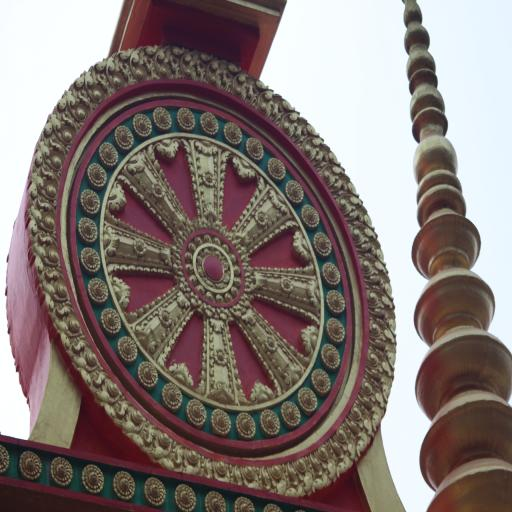hoa: (48, 452, 74, 488), (80, 458, 106, 494), (140, 474, 167, 506), (20, 446, 43, 482), (88, 276, 113, 309), (161, 379, 183, 415), (137, 358, 159, 394), (80, 241, 102, 276), (210, 407, 234, 439), (99, 305, 122, 338), (112, 467, 134, 501), (187, 395, 208, 430), (236, 410, 258, 443), (280, 400, 304, 430), (118, 334, 138, 368), (173, 481, 194, 512), (79, 185, 101, 214), (78, 212, 97, 243), (327, 286, 346, 316), (176, 104, 196, 132), (326, 316, 345, 345), (298, 385, 317, 414), (314, 226, 331, 258), (200, 111, 220, 138), (246, 134, 264, 164), (302, 202, 320, 232), (312, 368, 332, 395), (262, 408, 280, 438), (115, 122, 133, 152), (134, 112, 152, 142), (86, 163, 106, 189), (153, 104, 171, 132), (224, 118, 242, 146), (286, 176, 304, 204), (323, 259, 340, 288), (322, 344, 340, 371), (204, 492, 227, 512), (268, 156, 285, 182), (101, 143, 117, 167), (0, 446, 12, 471), (234, 497, 254, 512)
